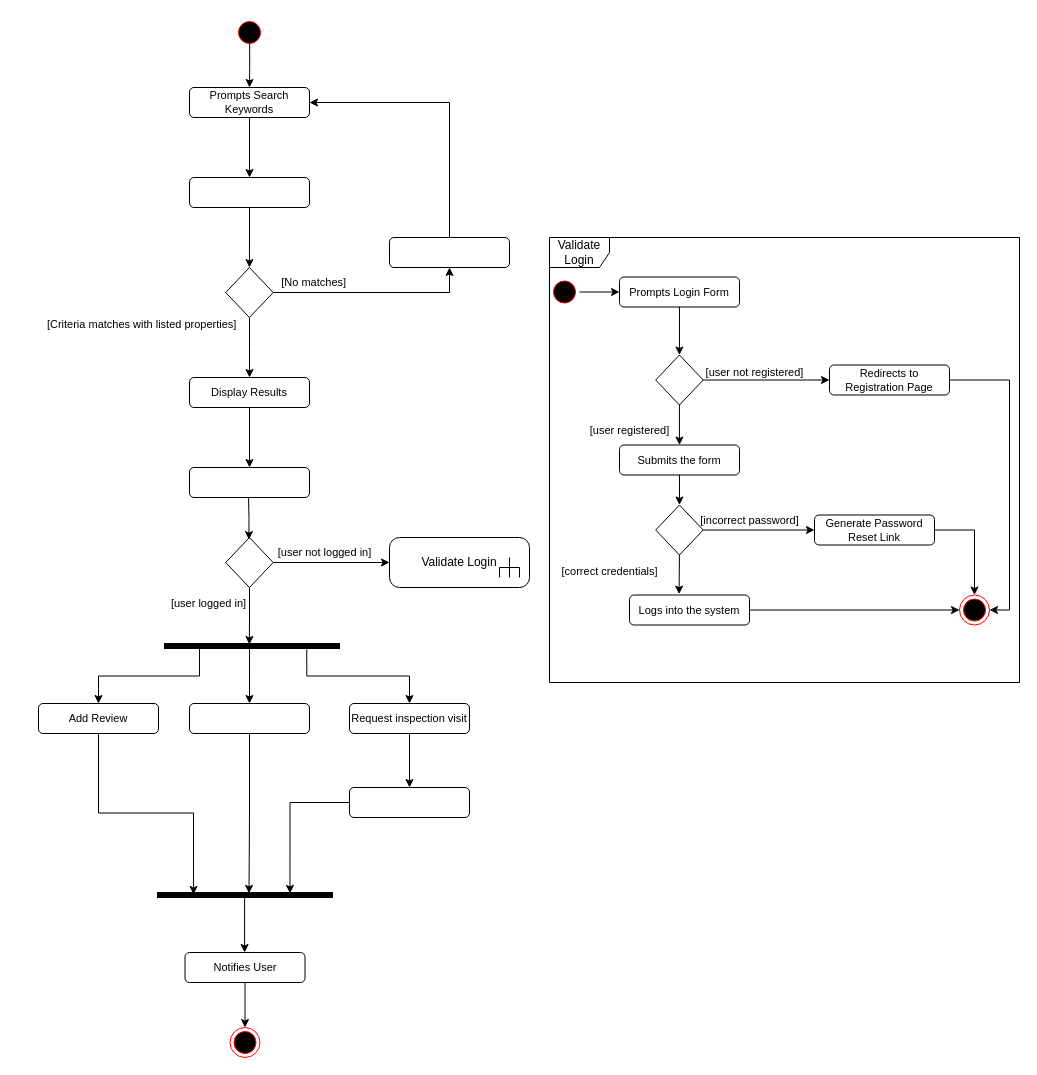
This 1037x1075 diagram has some shape labels left out. The shapes that lost their labels are listed below. From the top down, each one's box as (x1, y1, x2, y2) in pixels, then its label:
(188, 176, 310, 208): Submits the Search Form
(388, 236, 510, 268): Displays "Not Found" Alert
(188, 466, 310, 498): View Property Details
(188, 702, 310, 734): Add to wish list
(348, 786, 470, 818): Pick Inspection Date & Time
